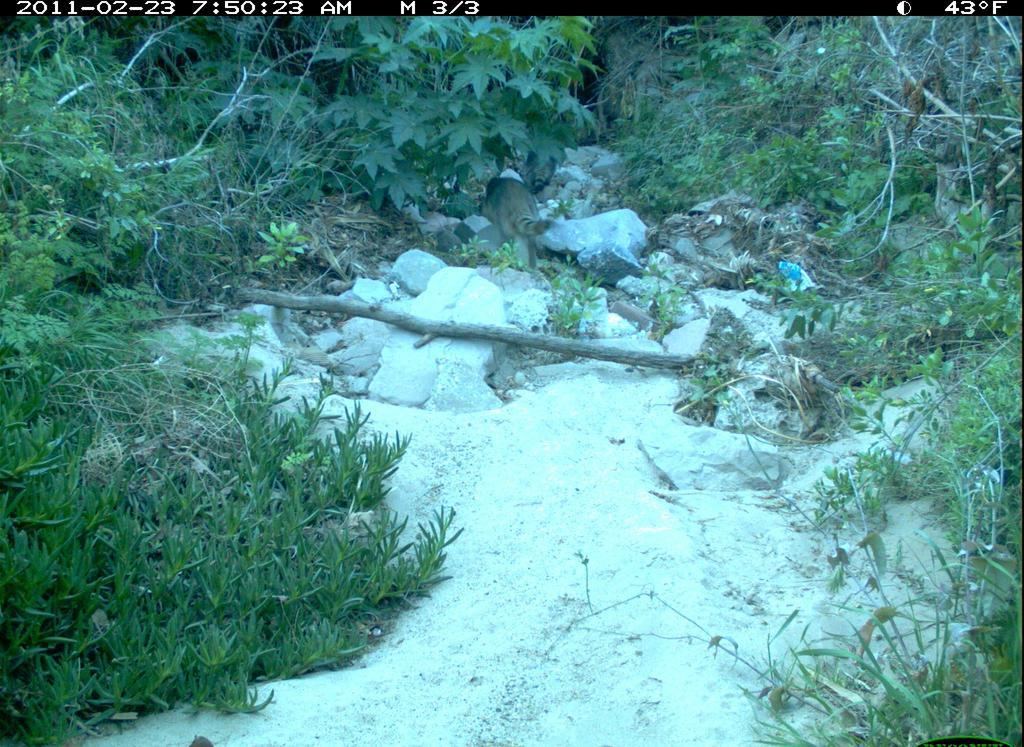raccoon: (470, 167, 562, 286)
